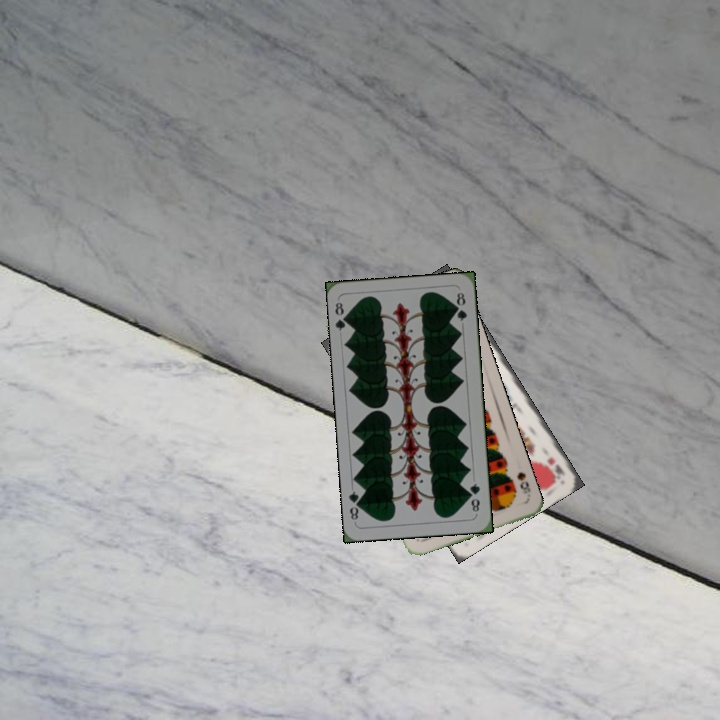G8: (331, 298, 352, 333), (465, 479, 483, 516)
HK: (543, 453, 568, 479)
S8: (513, 468, 533, 502)
